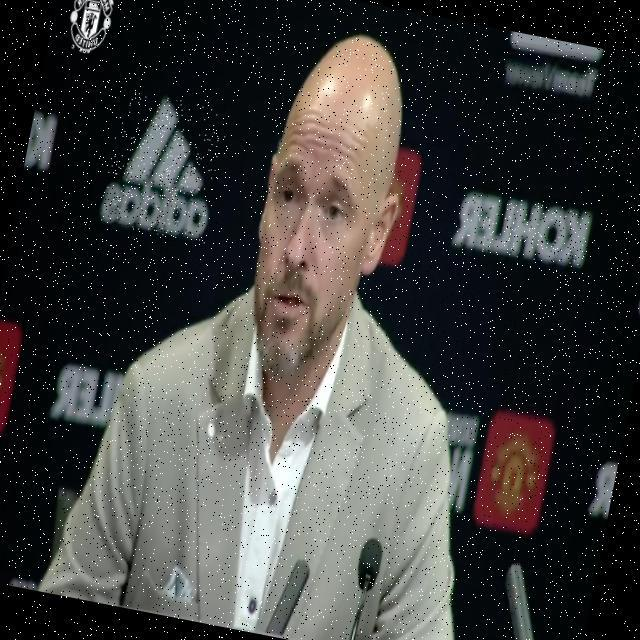Adidas: (98, 90, 231, 244)
Kohler: (454, 188, 594, 271)
TeamViewer: (503, 31, 603, 100)
